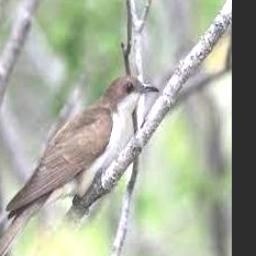Cuckoo: (0, 76, 160, 256)
